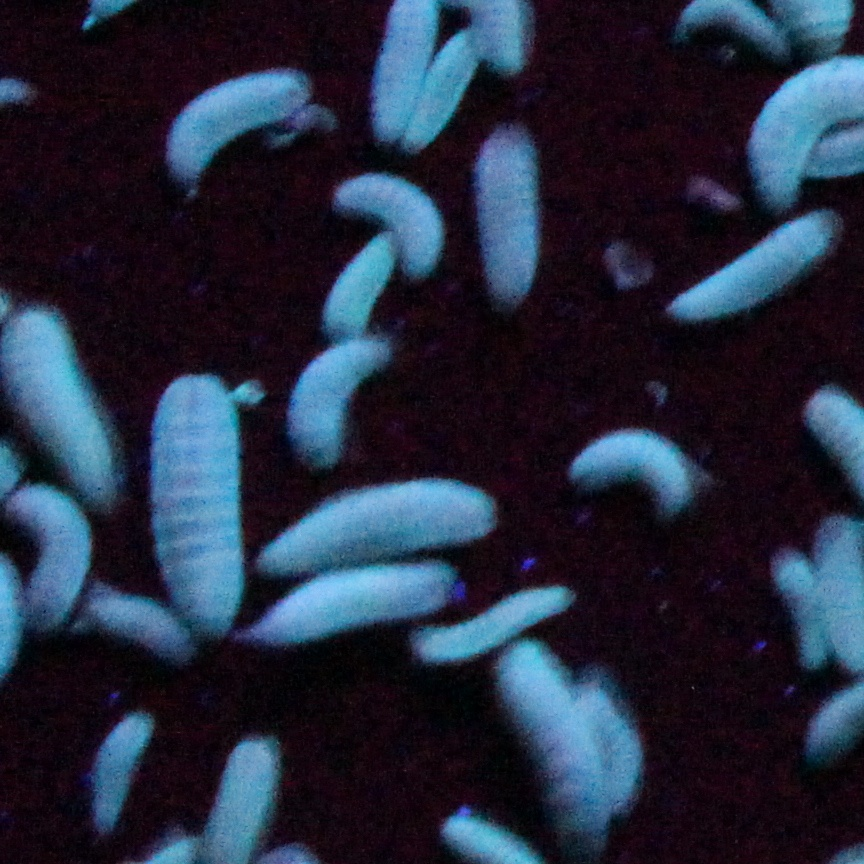larve: (261, 471, 504, 580), (146, 372, 241, 642), (13, 290, 123, 515), (232, 555, 451, 645), (505, 640, 604, 827), (179, 55, 320, 181), (675, 205, 834, 314), (567, 419, 694, 513), (20, 490, 99, 640), (422, 588, 577, 659), (308, 319, 384, 460), (346, 165, 447, 269), (480, 135, 537, 301), (333, 228, 411, 344), (409, 17, 472, 158), (93, 709, 141, 840), (100, 590, 186, 663), (780, 548, 818, 693)
